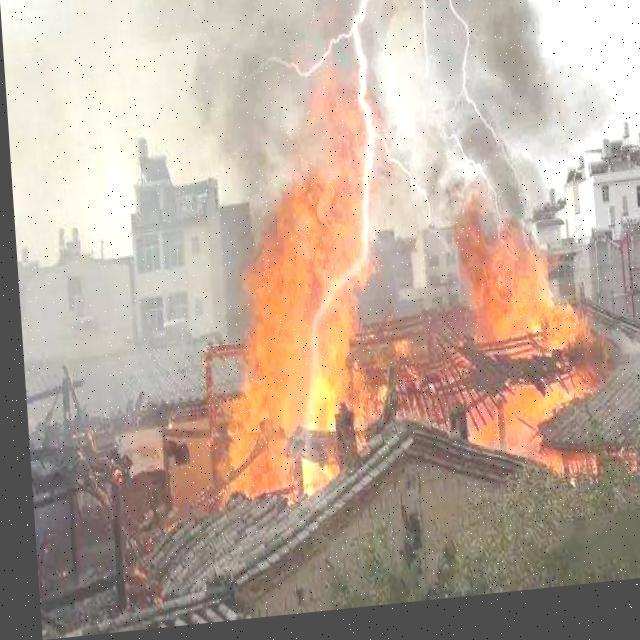Fire: (189, 69, 626, 538)
